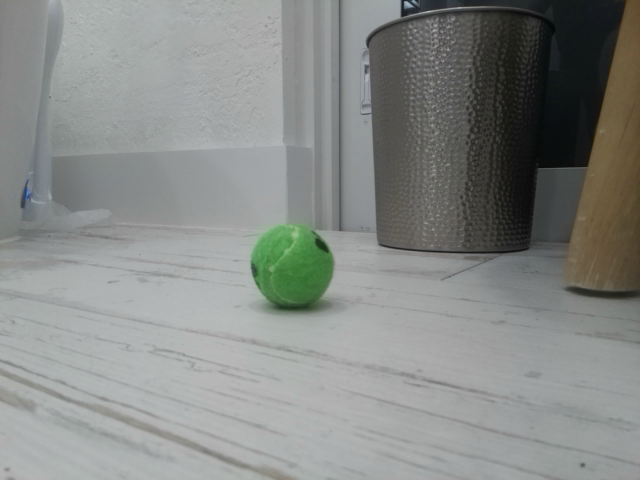green-ball: (249, 222, 336, 311)
